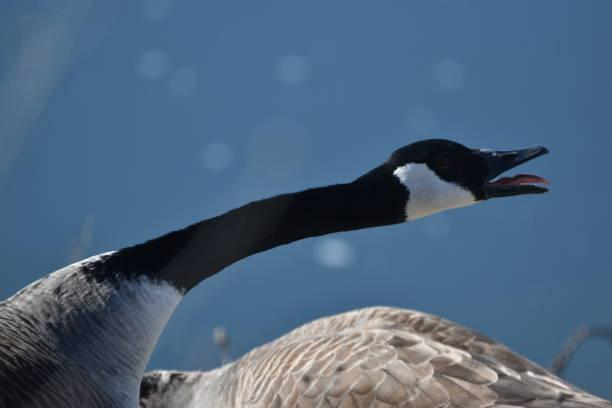Canadian-Goose: (0, 137, 612, 408)
